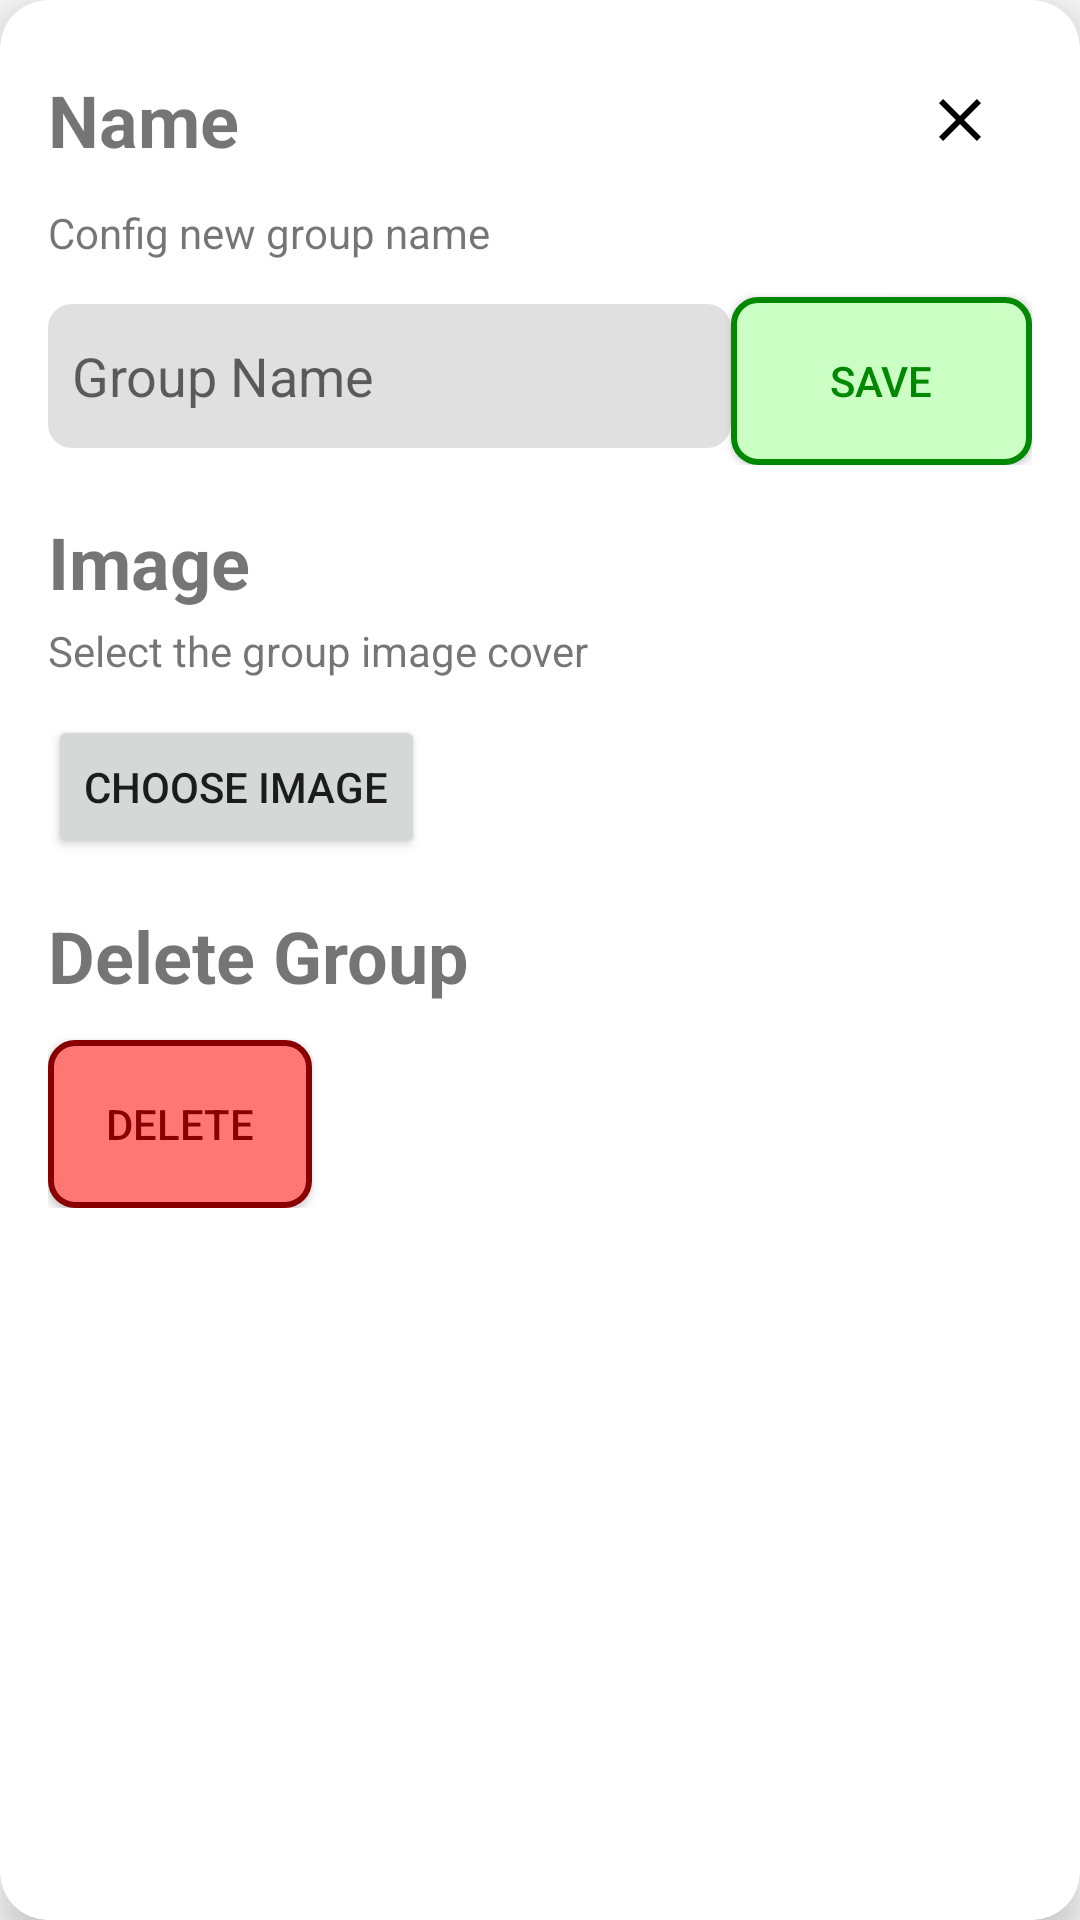

Icon click points for this 1080x1920 phone screenshot, format (x=x, y=y):
close modal button: (x=960, y=120)
